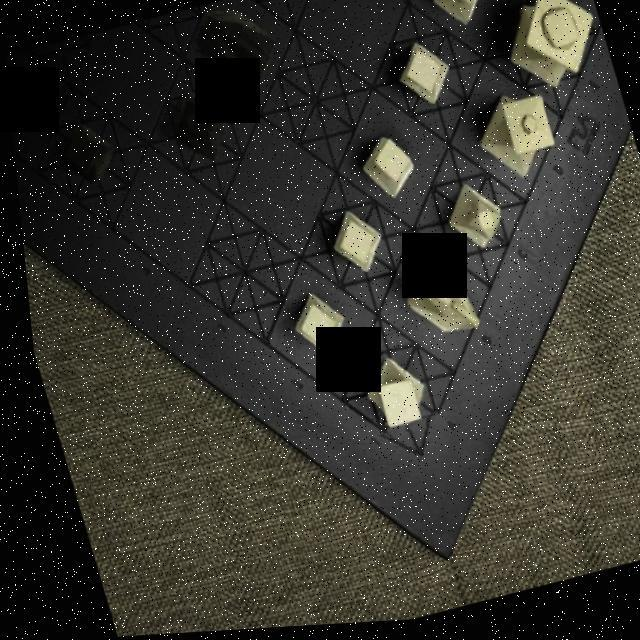chess-table-corners: (368, 417, 452, 493)
